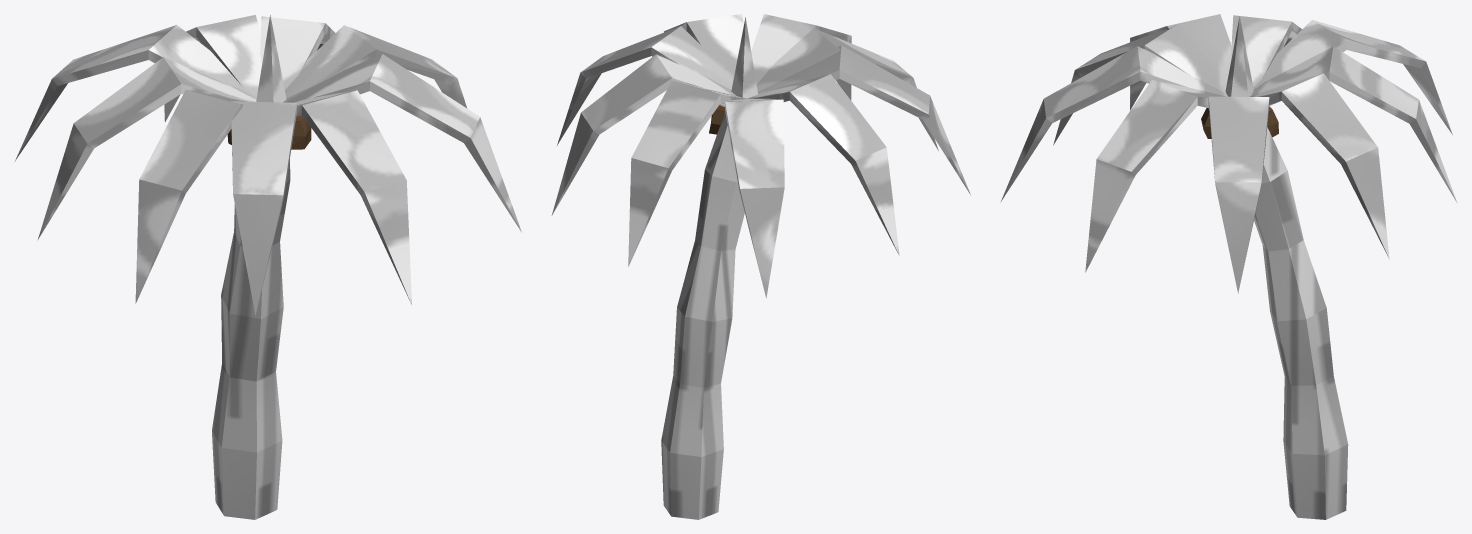
Rendered from tree_palm_1.obj.
3 renders of one model, left to right at view 1: azimuth 30°, elevation 25°; view 2: azimuth 150°, elevation 25°; view 3: azimuth 270°, elevation 25°, orthographic. The views are drawn at different scales.
Visible parts, largest first — view 1: tree_palm_1; view 2: tree_palm_1; view 3: tree_palm_1.
Part boxes in pixels (bbox=[...]): tree_palm_1: bbox=[15, 15, 521, 519]; tree_palm_1: bbox=[551, 14, 970, 519]; tree_palm_1: bbox=[1000, 14, 1457, 519].
Size of the model in its own units: 0.8759 by 1.06 by 0.9074.
